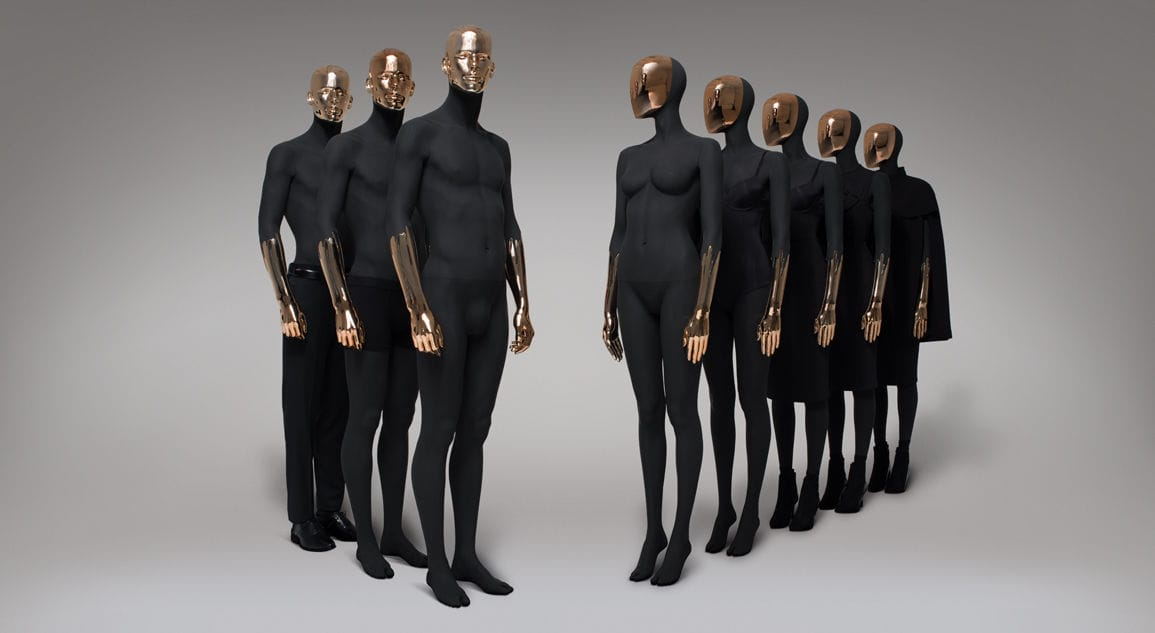person-like: (384, 18, 542, 614), (592, 46, 733, 592), (310, 42, 432, 585), (249, 53, 367, 559), (697, 69, 801, 566), (755, 84, 853, 536), (857, 117, 959, 504), (813, 101, 896, 521)
